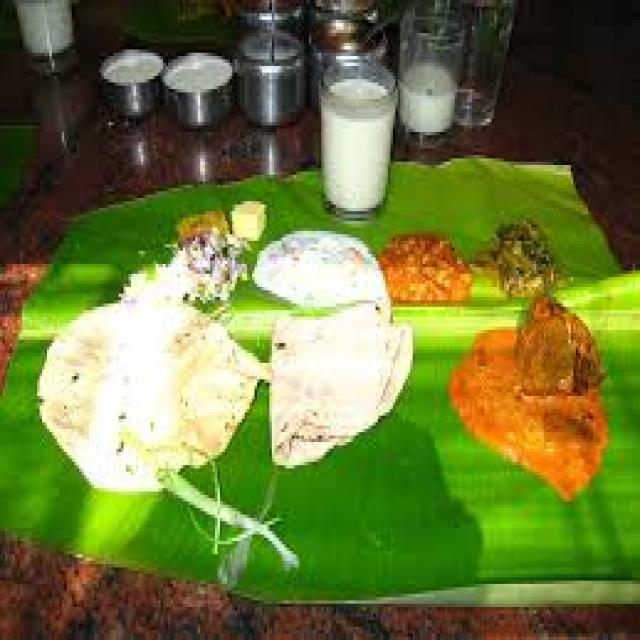papad: (65, 275, 279, 493), (258, 289, 412, 457)
raita: (397, 54, 464, 138)
rice: (46, 262, 281, 492)
roti: (434, 297, 611, 488)
veg-fry: (381, 231, 472, 308), (479, 216, 559, 295)
